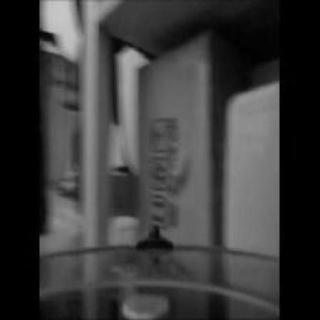other: (43, 70, 111, 256)
